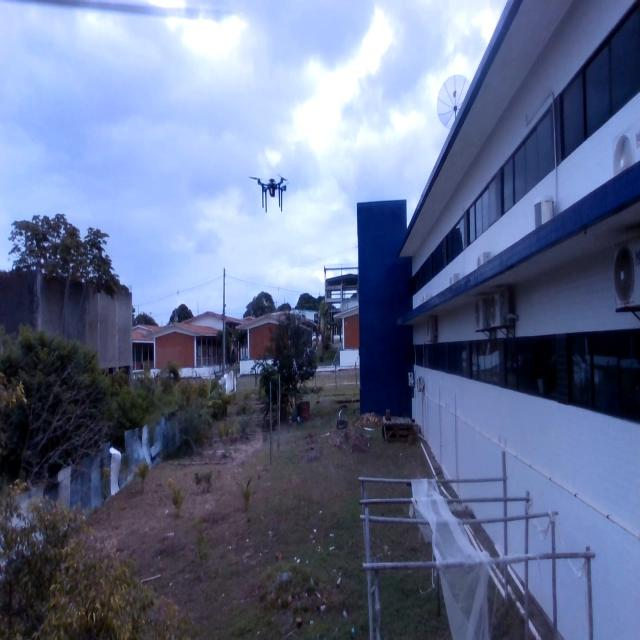-uav-: (247, 165, 295, 222)
